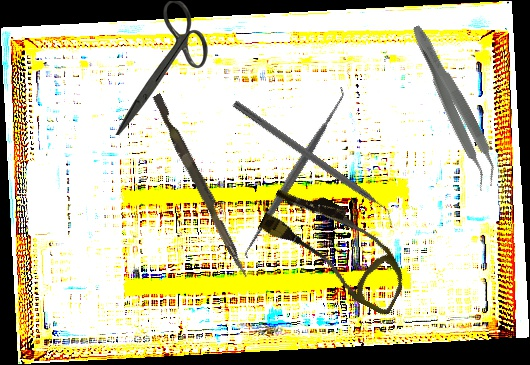Cannula: (249, 176, 423, 318)
Chopper: (225, 99, 402, 231)
Iris Scissors: (115, 1, 208, 135)
Pusher: (147, 93, 256, 279)
Spatula Surgical: (233, 84, 356, 262)
Tissue Forceps: (400, 21, 506, 192)
